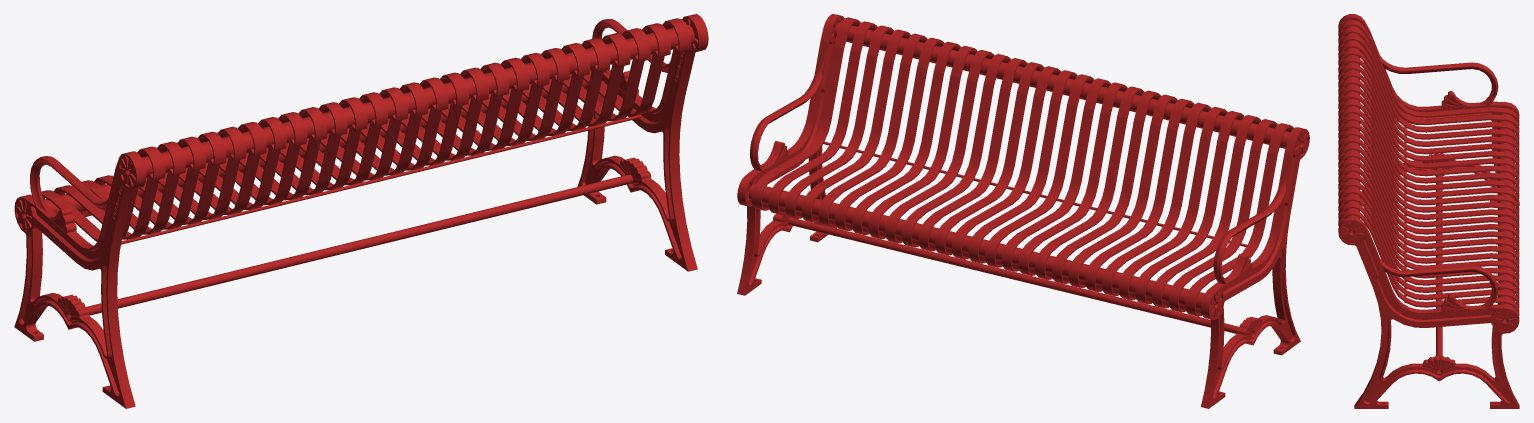
3 views of the same model, side by side, from view 1: azimuth 30°, elevation 25°; view 2: azimuth 150°, elevation 25°; view 3: azimuth 270°, elevation 25° (orthographic). The views are drawn at different scales.
Visible parts, largest first — view 1: mesh113_mesh113-geometry, mesh4_mesh4-geometry, mesh115_mesh115-geometry, mesh1_mesh1-geometry, mesh118_mesh118-geometry; view 2: mesh113_mesh113-geometry, mesh4_mesh4-geometry, mesh115_mesh115-geometry, mesh1_mesh1-geometry, mesh118_mesh118-geometry; view 3: mesh113_mesh113-geometry, mesh4_mesh4-geometry, mesh115_mesh115-geometry, mesh1_mesh1-geometry.
Boxes of the visible parts, box(x1,y1,x2,y2) form: mesh113_mesh113-geometry: box(41, 18, 691, 241); mesh4_mesh4-geometry: box(14, 14, 708, 408); mesh115_mesh115-geometry: box(44, 24, 694, 213); mesh1_mesh1-geometry: box(85, 174, 632, 315); mesh118_mesh118-geometry: box(121, 114, 640, 244); mesh113_mesh113-geometry: box(751, 17, 1293, 316); mesh4_mesh4-geometry: box(737, 14, 1309, 408); mesh115_mesh115-geometry: box(748, 22, 1290, 309); mesh1_mesh1-geometry: box(788, 217, 1239, 333); mesh118_mesh118-geometry: box(823, 141, 1247, 246); mesh113_mesh113-geometry: box(1338, 20, 1519, 315); mesh4_mesh4-geometry: box(1338, 14, 1519, 408); mesh115_mesh115-geometry: box(1344, 25, 1513, 319); mesh1_mesh1-geometry: box(1436, 167, 1442, 369).
Size of the model in its own units: 0.8703 by 0.3714 by 0.3234.
